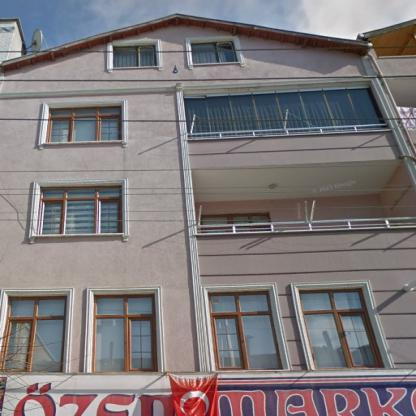window: (184, 87, 388, 137), (300, 290, 380, 368), (208, 292, 282, 370), (92, 296, 155, 372), (2, 297, 64, 372), (38, 187, 120, 233), (45, 107, 121, 142), (201, 214, 270, 233), (112, 44, 158, 67), (192, 41, 238, 63)
